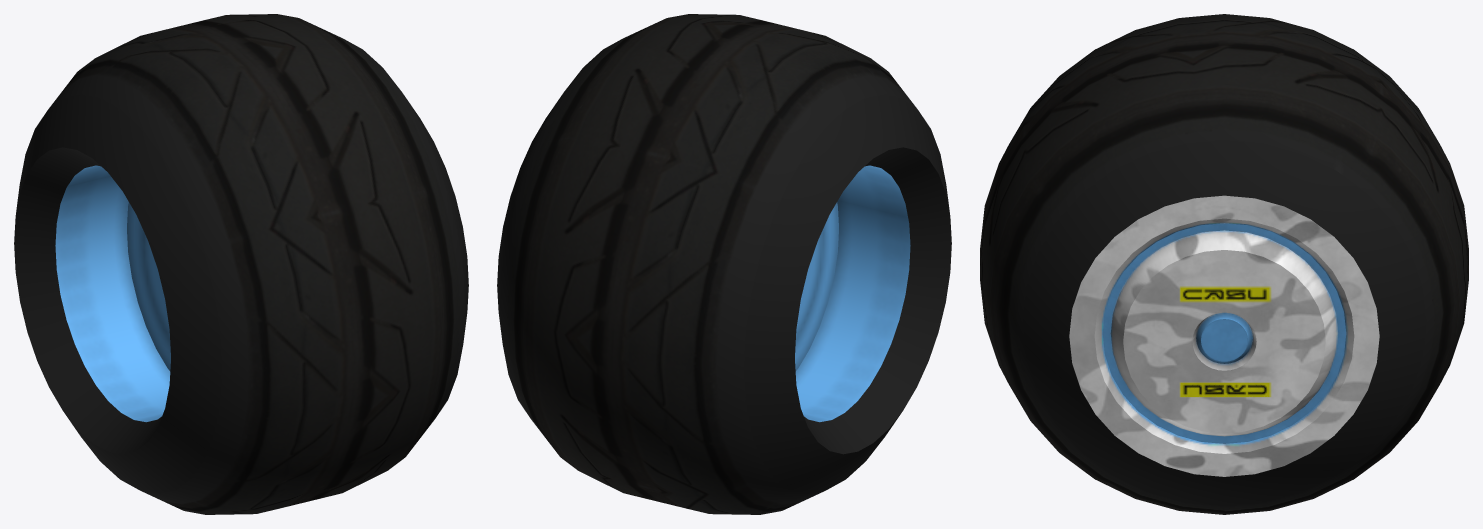
File: sulwheel.fbx
The picture shows the model from 3 angles, left to right: view 1: azimuth 30°, elevation 25°; view 2: azimuth 150°, elevation 25°; view 3: azimuth 270°, elevation 25°; orthographic projection.
Visible parts, largest first — view 1: rearWheel_L.001; view 2: rearWheel_L.001; view 3: rearWheel_L.001.
Boxes of the visible parts, x1=… form: rearWheel_L.001: x1=14, y1=14, x2=468, y2=514; rearWheel_L.001: x1=497, y1=14, x2=951, y2=514; rearWheel_L.001: x1=980, y1=14, x2=1468, y2=514.
Bounding box in the file's own units: 216 × 300 × 300.
Materials: 1 (1 with a texture image).
